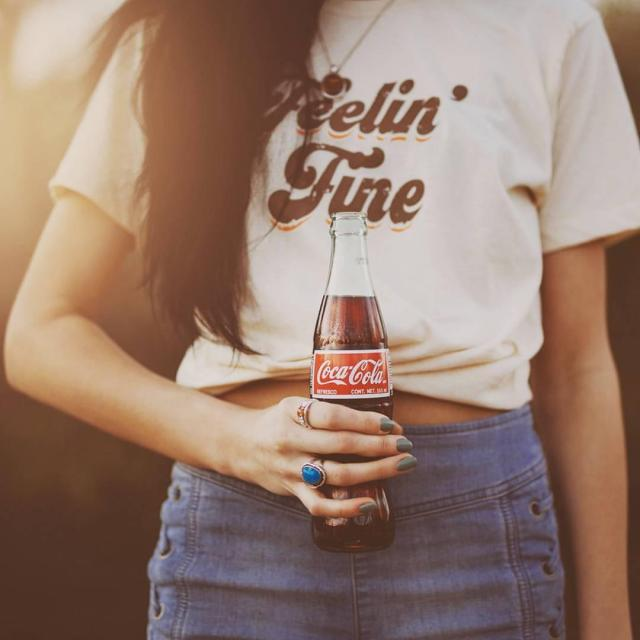coca-cola: (306, 208, 400, 556)
